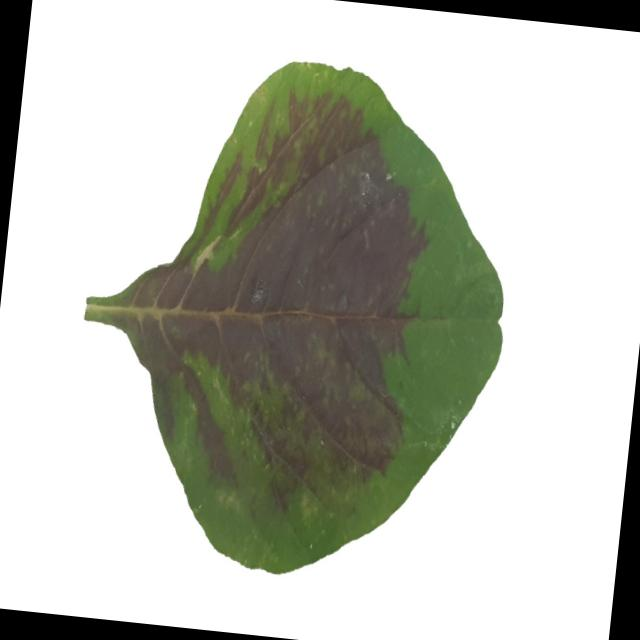Medicinal-Arive Dantu: (59, 36, 528, 594)
